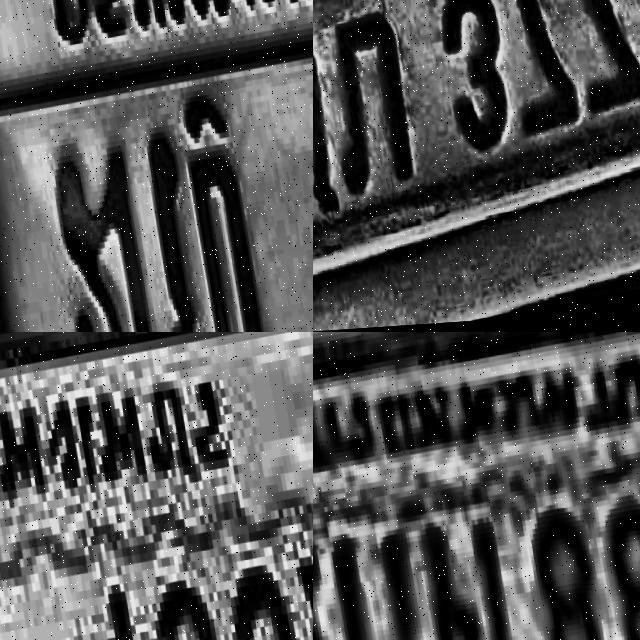license-plate: (313, 0, 640, 319), (0, 0, 313, 332), (313, 332, 640, 640), (0, 332, 313, 640)
